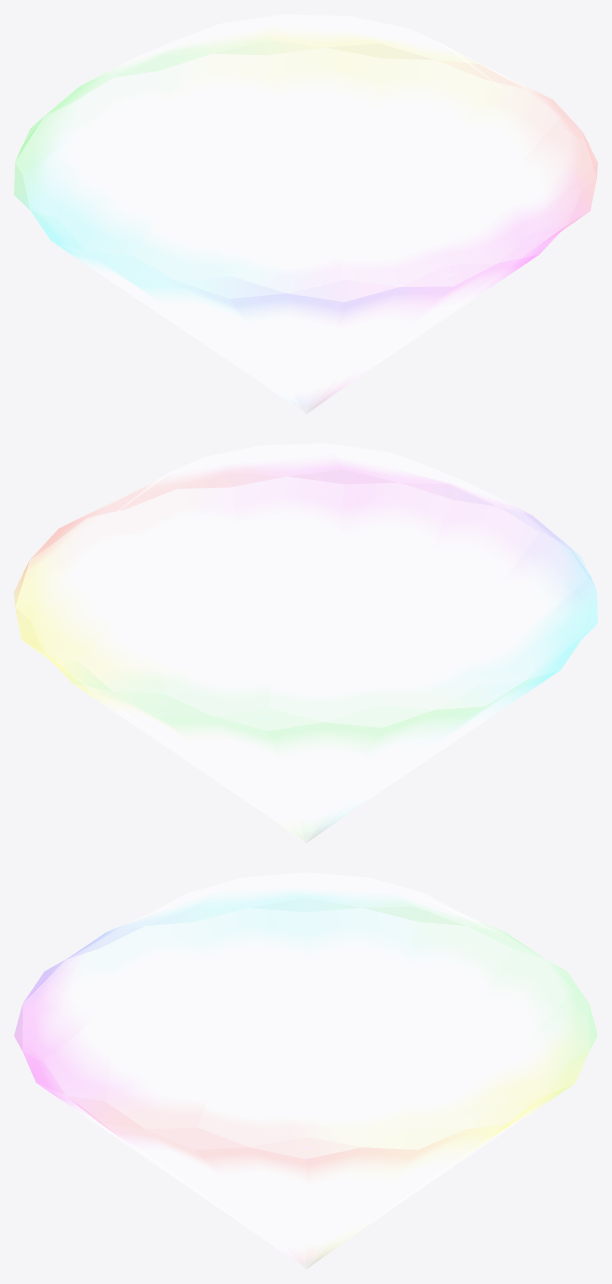
Rendered from morph3.glb.
3 renders of one model, top to bottom at view 1: azimuth 30°, elevation 25°; view 2: azimuth 150°, elevation 25°; view 3: azimuth 270°, elevation 25°, orthographic.
Parts seen in each view (by area): view 1: pCone1.001; view 2: pCone1.001; view 3: pCone1.001.
Part boxes in pixels (<box>): pCone1.001: <box>14,14,597,414</box>; pCone1.001: <box>14,443,597,843</box>; pCone1.001: <box>14,872,597,1269</box>.
Size of the model in its own units: 2 by 1.23 by 2.
Materials: 1 (1 with a texture image).
